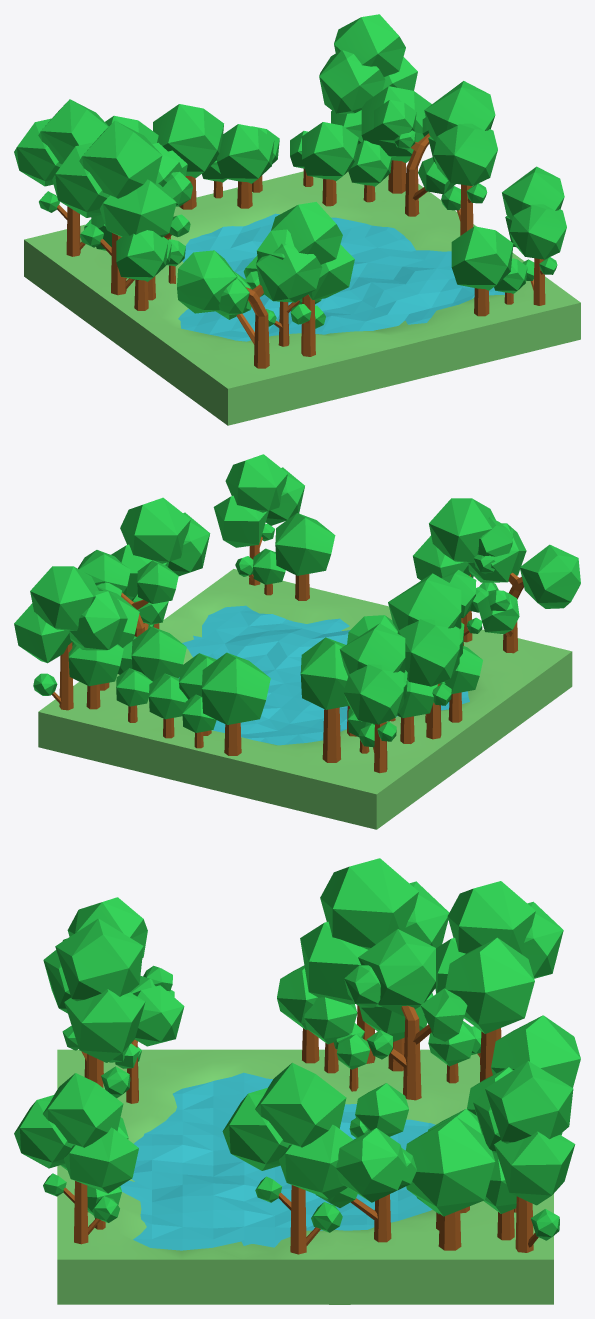
File: water_0.fbx
3 views of the same model, one above another, from view 1: azimuth 30°, elevation 25°; view 2: azimuth 150°, elevation 25°; view 3: azimuth 270°, elevation 25° (orthographic). The views are drawn at different scales.
Parts seen in each view (by area): view 1: Plane.002; view 2: Plane.002; view 3: Plane.002.
Part boxes in pixels (x1,y1,x2,y2): Plane.002: [14, 14, 580, 425]; Plane.002: [14, 454, 580, 829]; Plane.002: [14, 858, 580, 1304].
Size of the model in its own units: 2371 by 1185 by 2283.
